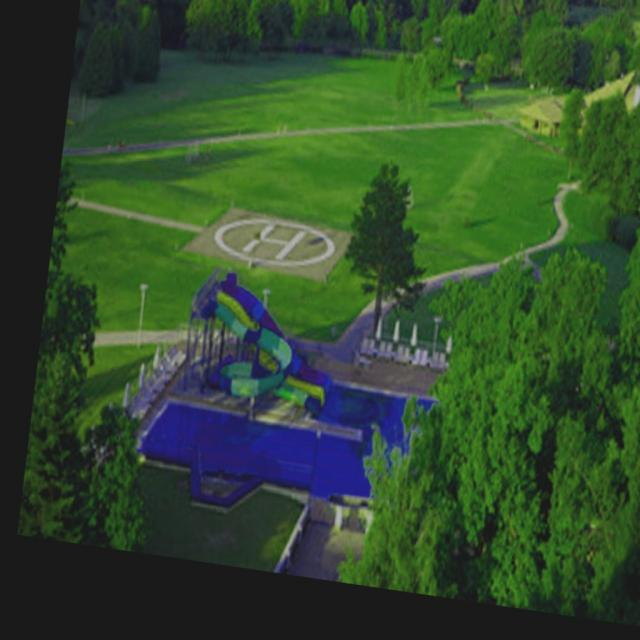helipad: (211, 215, 336, 268)
